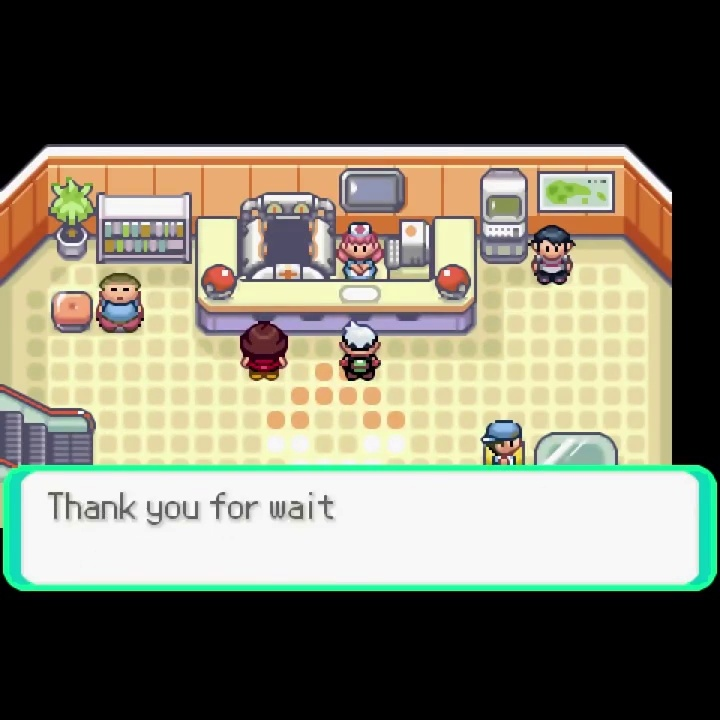agent: (337, 318, 384, 384)
npc: (237, 318, 289, 382), (94, 272, 146, 335), (528, 223, 578, 287), (335, 221, 385, 281), (481, 418, 523, 465)
